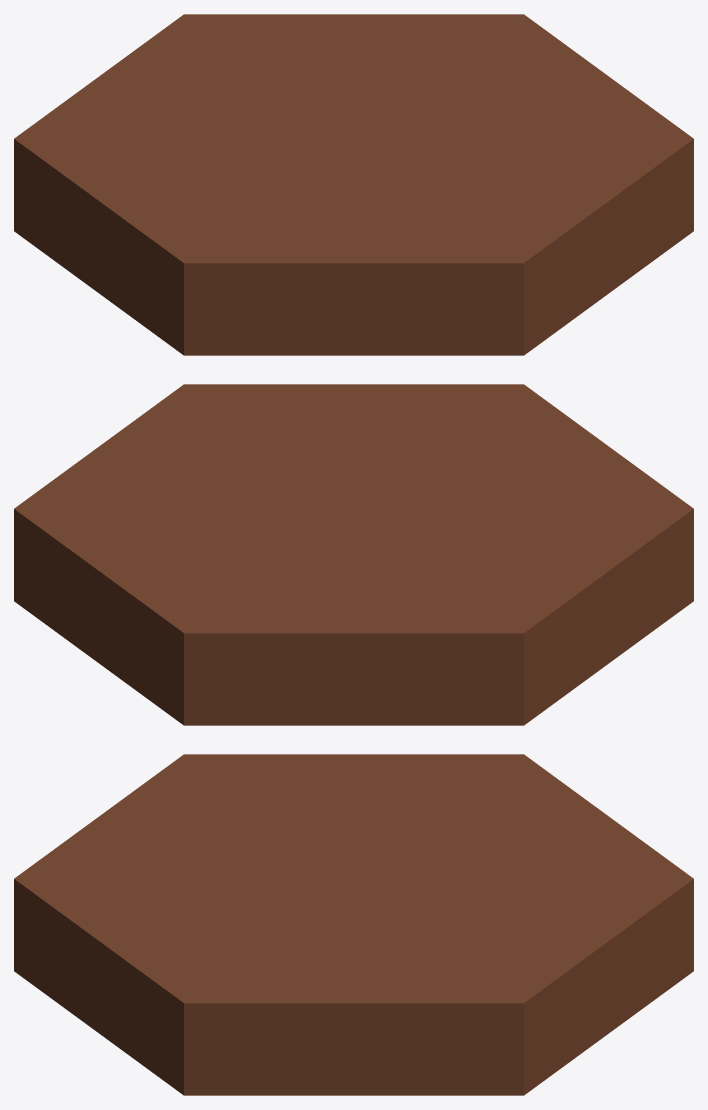
File: wooden_wall1.glb
The picture shows the model from 3 angles, top to bottom: view 1: azimuth 30°, elevation 25°; view 2: azimuth 150°, elevation 25°; view 3: azimuth 270°, elevation 25°; orthographic projection.
Visible parts, largest first — view 1: WoodenWall1; view 2: WoodenWall1; view 3: WoodenWall1.
Part boxes in pixels (x1,y1,x2,y2): WoodenWall1: (14, 14, 693, 355); WoodenWall1: (14, 384, 693, 725); WoodenWall1: (14, 754, 693, 1095).
Size of the model in its own units: 1.73 by 0.3 by 2.
Materials: 1 (1 with a texture image).
